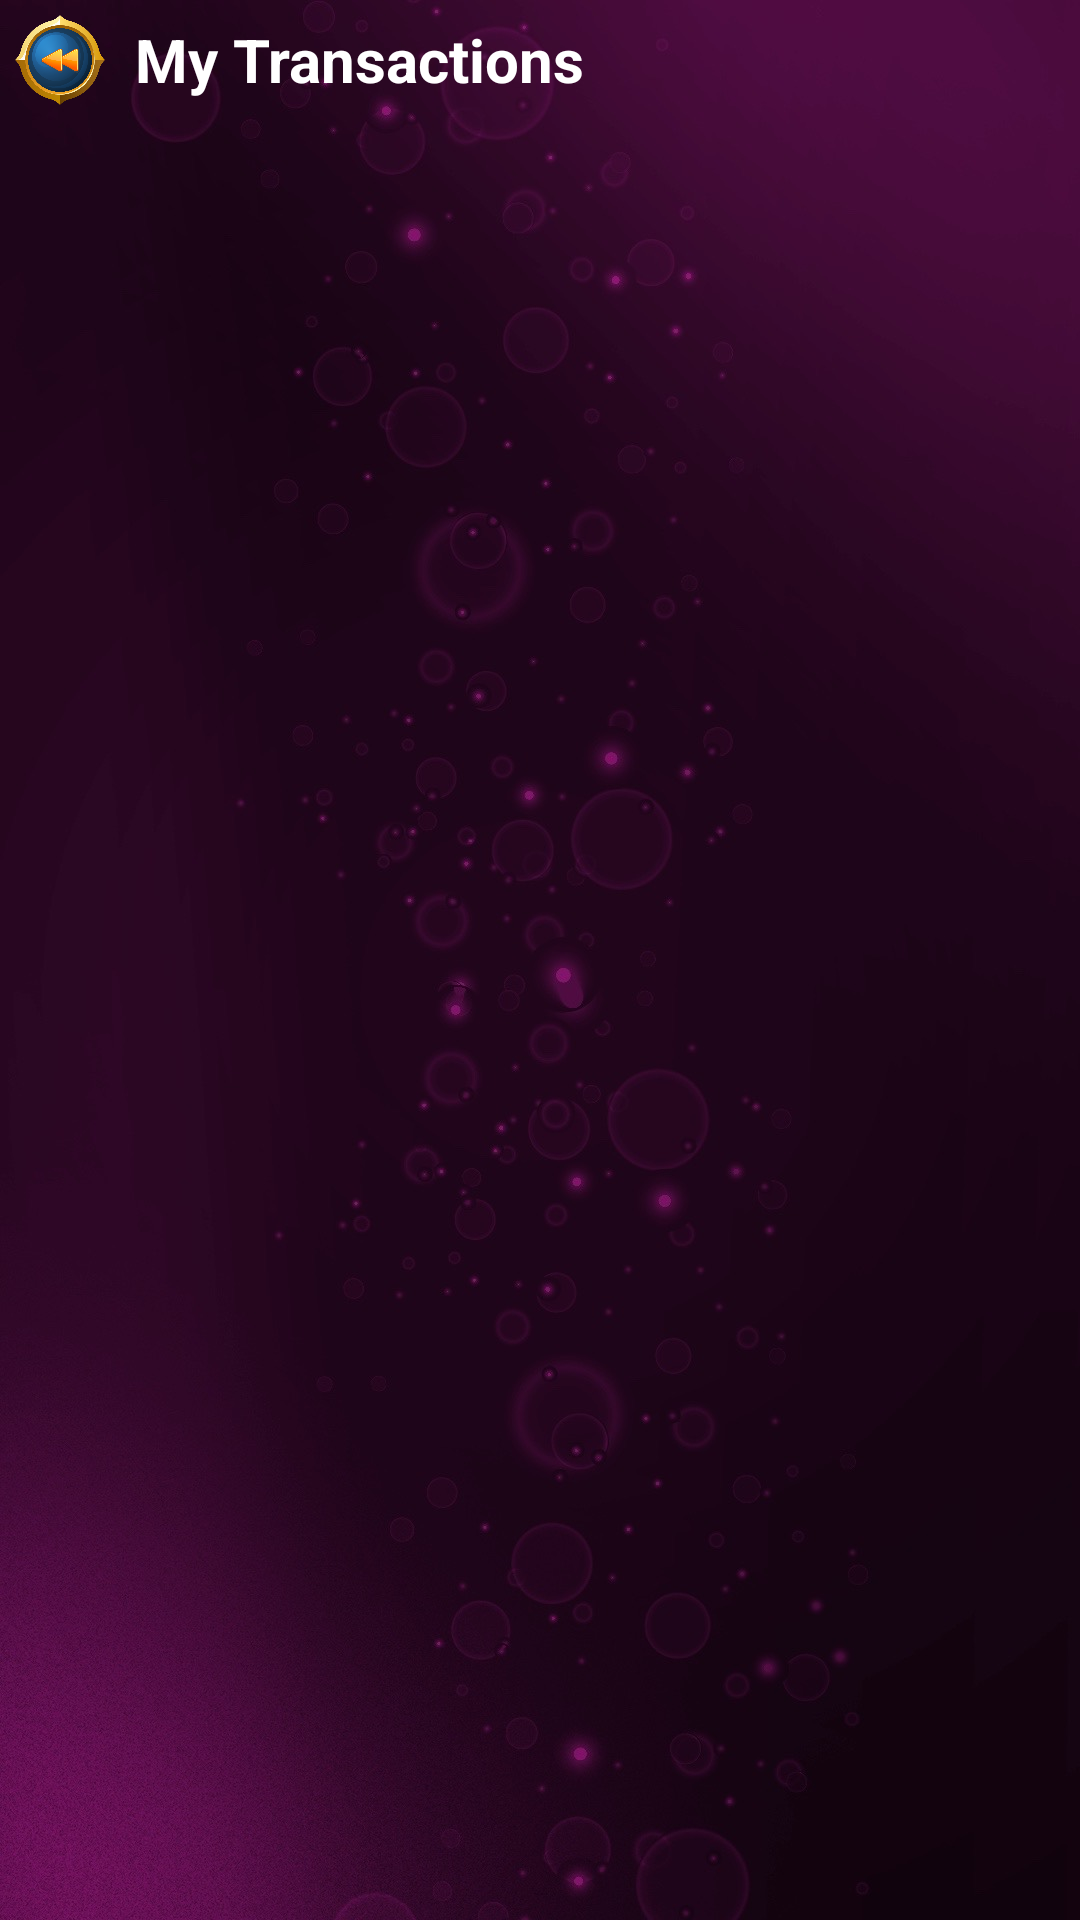

Where icons sit on this 1080px x 1920px app screen, as {"left": x1, "top": y1, "right": x2, "bottom": y2}:
changebackbtn: {"left": 15, "top": 15, "right": 105, "bottom": 105}
